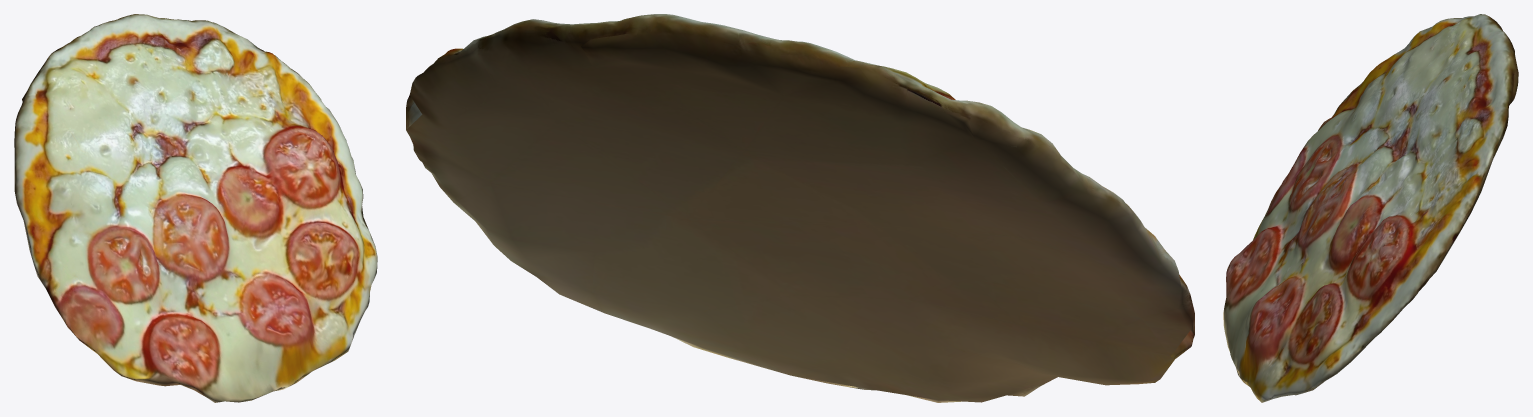
Rendered from pizzachica.glb.
3 renders of one model, left to right at view 1: azimuth 30°, elevation 25°; view 2: azimuth 150°, elevation 25°; view 3: azimuth 270°, elevation 25°, orthographic. The views are drawn at different scales.
Visible parts, largest first — view 1: 3DModel; view 2: 3DModel; view 3: 3DModel.
Boxes of the visible parts, left/top/right/bottom form: 3DModel: left=14, top=14, right=377, bottom=402; 3DModel: left=406, top=14, right=1194, bottom=402; 3DModel: left=1223, top=14, right=1518, bottom=402.
Size of the model in its own units: 0.751 by 0.5884 by 0.5079.
Materials: 1 (1 with a texture image).
